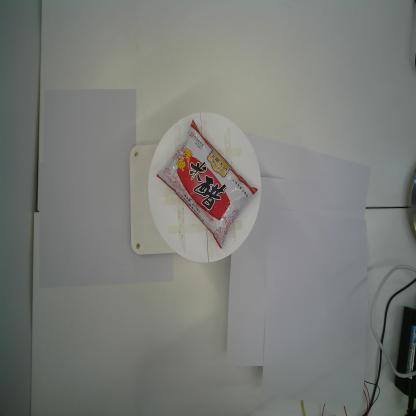Seasoner: (155, 118, 259, 252)
